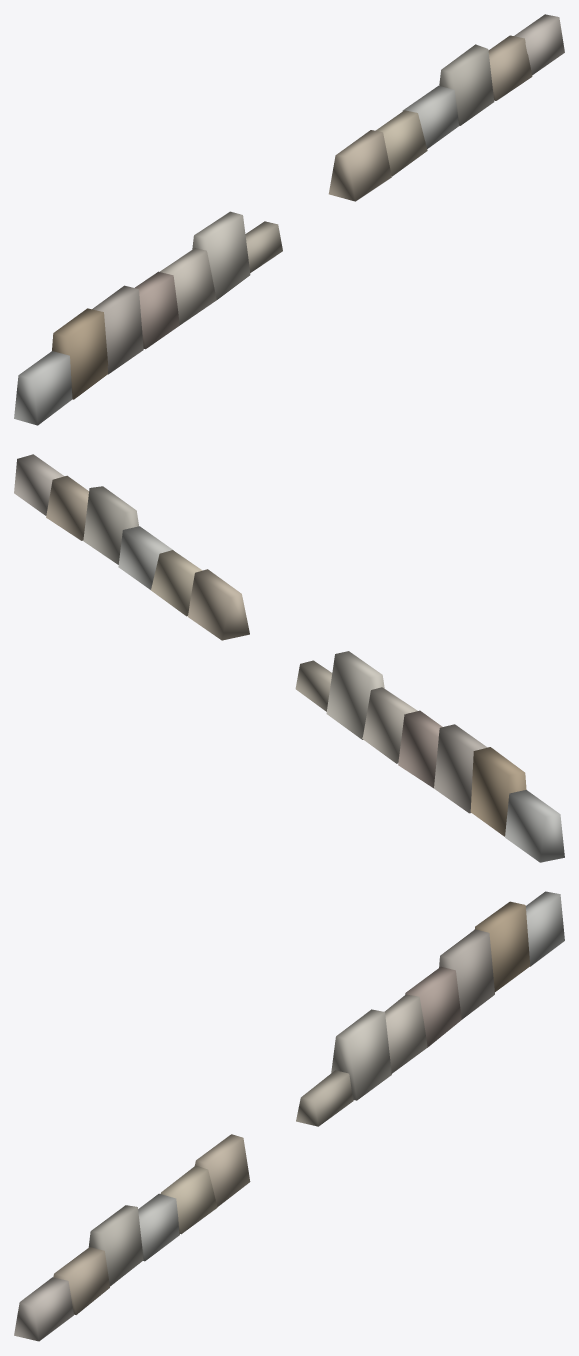
Rendered from farm_-24_-37_far.glb.
3 renders of one model, top to bottom at view 1: azimuth 90°, elevation 25°; view 2: azimuth 150°, elevation 25°; view 3: azimuth 270°, elevation 25°, orthographic.
Visible parts, largest first — view 1: geometry_0; view 2: geometry_0; view 3: geometry_0.
Boxes of the visible parts, x1=… form: geometry_0: x1=14, y1=14, x2=564, y2=425; geometry_0: x1=14, y1=454, x2=564, y2=862; geometry_0: x1=14, y1=891, x2=564, y2=1341.
Size of the model in its own units: 20.47 by 1.83 by 12.14.
